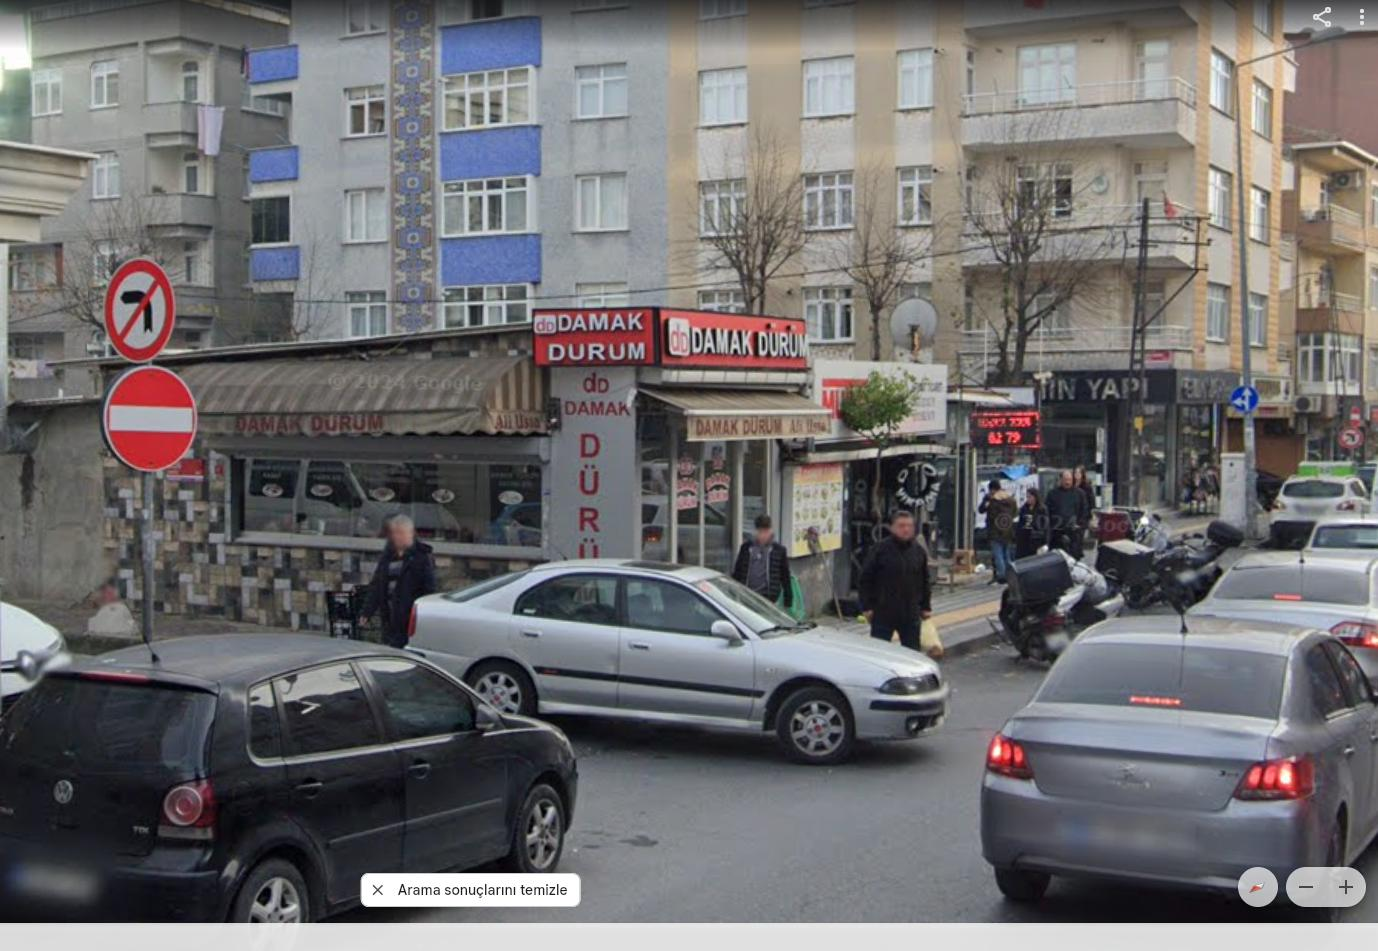leftturnsareforbidden: (105, 259, 176, 358)
